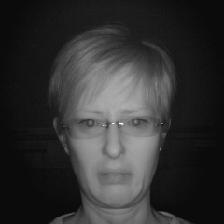sad: (52, 32, 173, 208)
